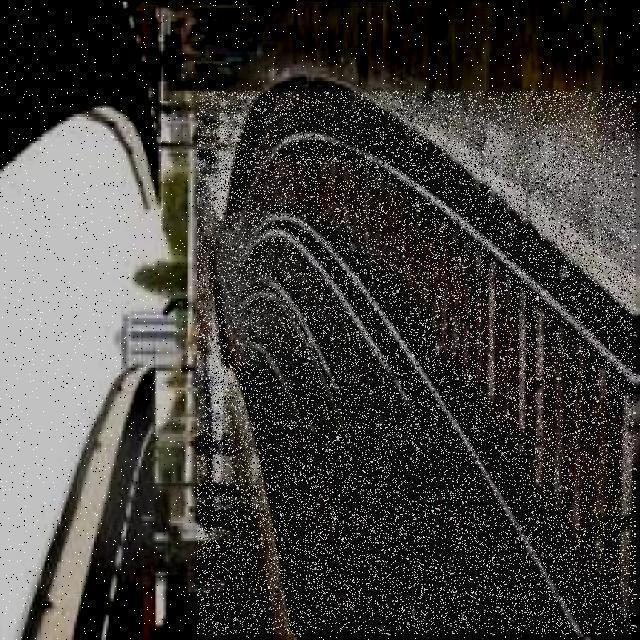rail: (199, 93, 636, 635)
